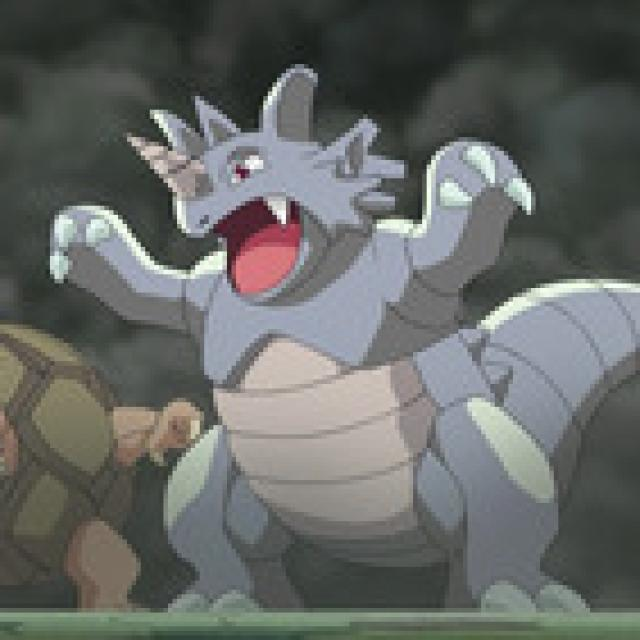Rhydon: (115, 98, 565, 610)
